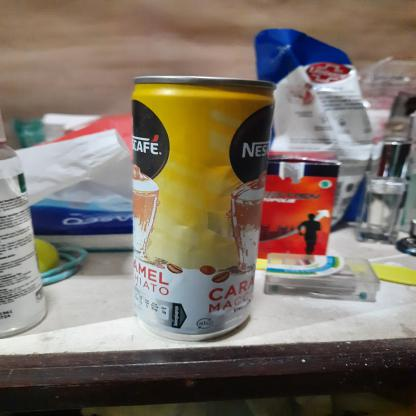bottle: (124, 72, 278, 346)
